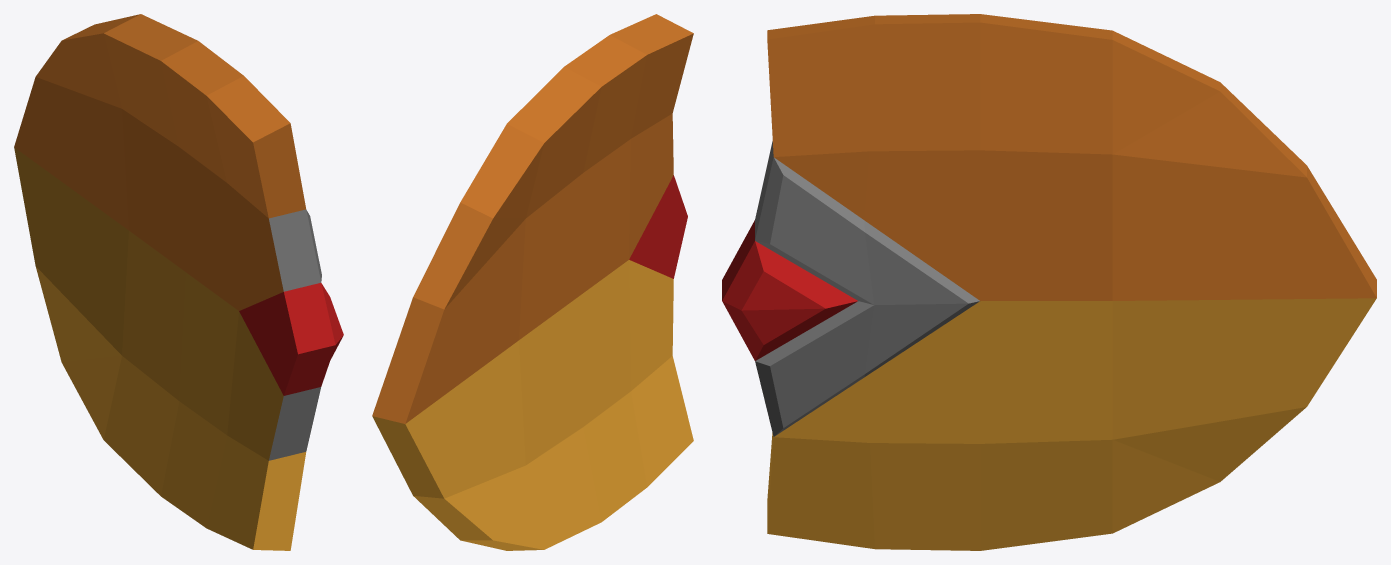
File: ShieldPolyart.fbx
3 renders of one model, left to right at view 1: azimuth 30°, elevation 25°; view 2: azimuth 150°, elevation 25°; view 3: azimuth 270°, elevation 25°, orthographic. The views are drawn at different scales.
Visible parts, largest first — view 1: Shield4; view 2: Shield4; view 3: Shield4.
Boxes of the visible parts, x1,y1,x2,y2 form: Shield4: (14, 14, 343, 550); Shield4: (372, 14, 693, 550); Shield4: (722, 14, 1376, 550).
Bounding box in the file's own units: 10.6 × 58.12 × 65.27.
